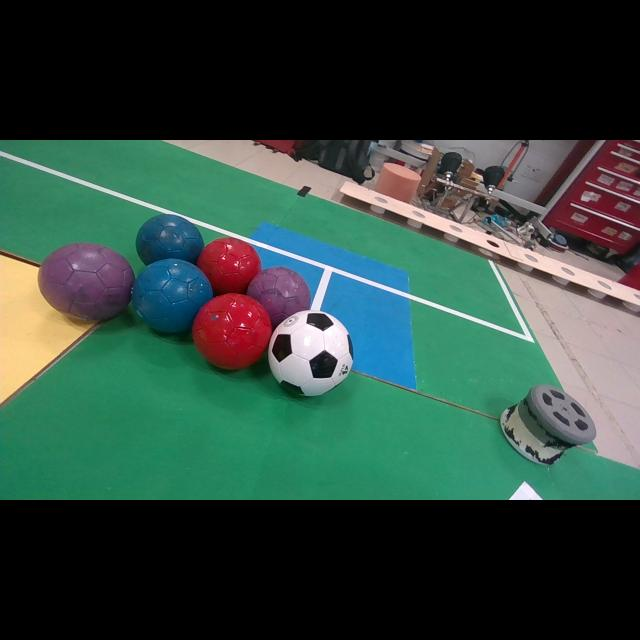B: (132, 259, 212, 332), (136, 214, 204, 265)
P: (38, 242, 135, 320), (246, 266, 311, 328)
R: (192, 294, 272, 369), (196, 238, 261, 295)
